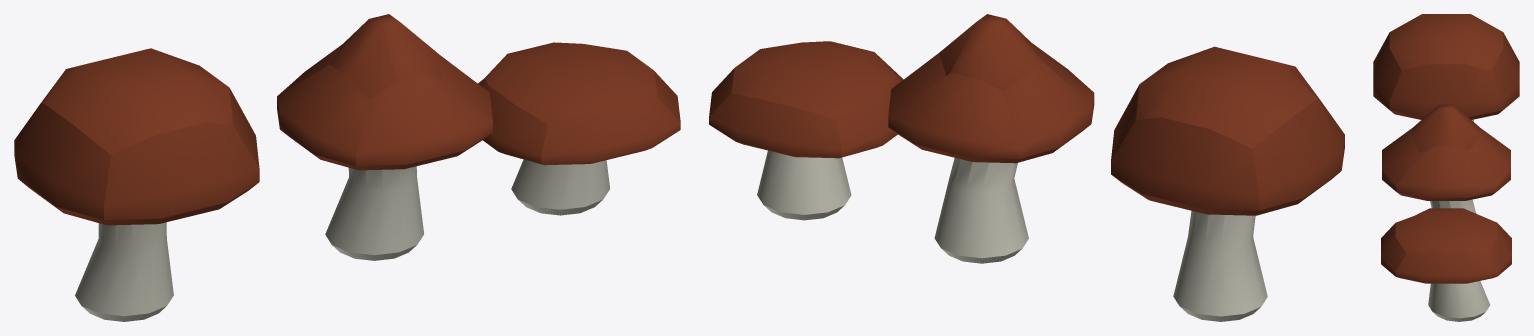
File: Mushrooms.fbx
3 views of the same model, side by side, from view 1: azimuth 30°, elevation 25°; view 2: azimuth 150°, elevation 25°; view 3: azimuth 270°, elevation 25° (orthographic). The views are drawn at different scales.
Parts seen in each view (by area): view 1: RegMushroom, CapMushroom, FlatMushroom; view 2: RegMushroom, CapMushroom, FlatMushroom; view 3: RegMushroom, FlatMushroom, CapMushroom.
Part boxes in pixels (x1,y1,x2,y2): RegMushroom: (14,48,259,321); CapMushroom: (277,14,492,260); FlatMushroom: (478,42,680,215); RegMushroom: (1111,46,1344,321); CapMushroom: (888,14,1094,263); FlatMushroom: (709,41,903,220); RegMushroom: (1373,14,1519,121); FlatMushroom: (1381,208,1511,321); CapMushroom: (1382,104,1510,213).
Bounding box in the file's own units: 10.06 × 3.73 × 3.22.
